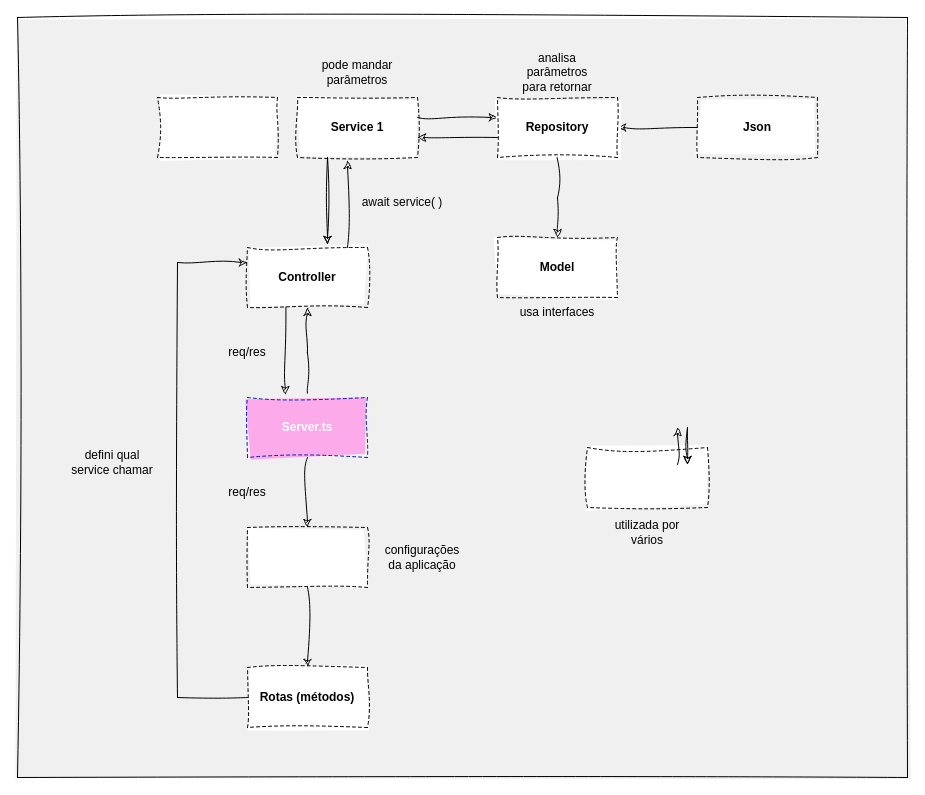
The diagram is 925 pixels wide and 795 high, and some of its shapes have lost their labels. The shapes that lost their labels are listed below. From the top down, each one's box as (x1, y1, x2, y2) in pixels, then its label:
(156, 96, 278, 158): Service 2
(586, 446, 708, 508): Utils
(246, 526, 368, 588): App.ts
